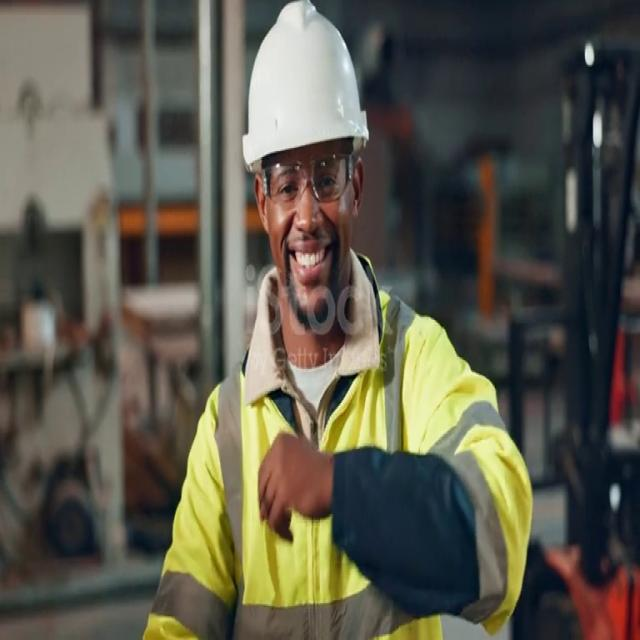capacete: (217, 2, 385, 192)
